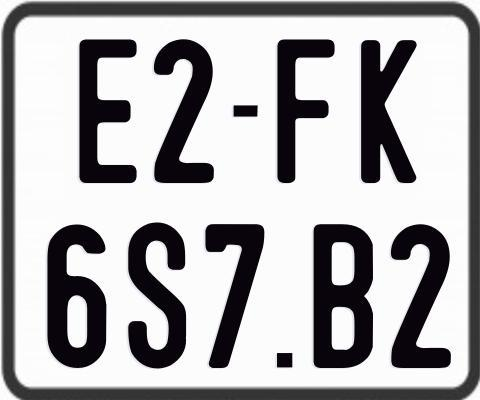2: (153, 38, 217, 188), (391, 221, 452, 370)
6: (46, 225, 110, 374)
7: (205, 222, 266, 370)
B: (313, 224, 376, 369)
E: (79, 38, 140, 188)
F: (277, 37, 335, 187)
K: (361, 39, 421, 185)
S: (127, 221, 187, 369)
